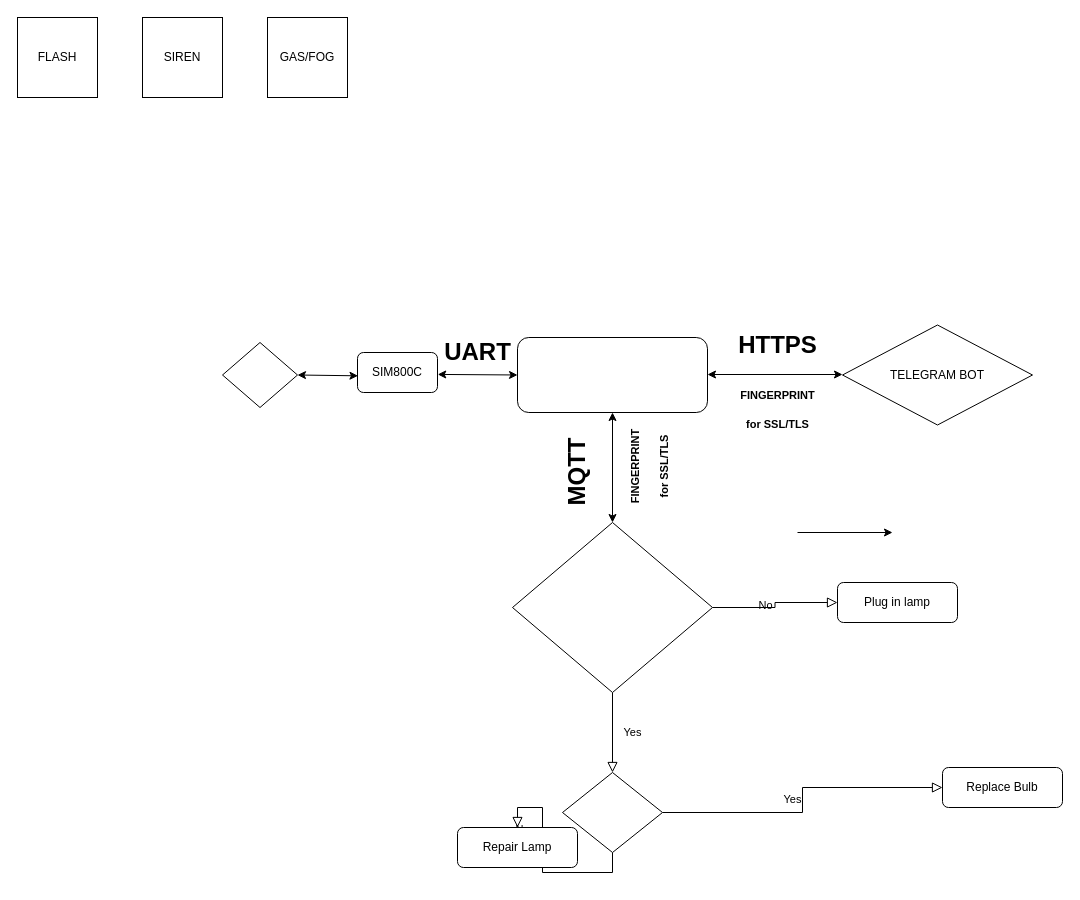
The diagram is 1080 pixels wide and 900 high, and some of its shapes have lost their labels. The shapes that lost their labels are listed below. From the top down, each one's centre as x and y in pixels, then its label:
At (x=260, y=375): "GSM".
At (x=612, y=374): "G-MAK комплекс (based on MCU8266 )".
At (x=612, y=607): "Приложение G-MAK APP".
At (x=612, y=812): "Bulb burned out?".
